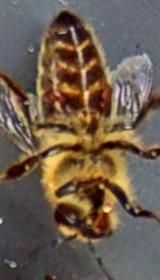varroa_mite: (28, 88, 77, 119)
